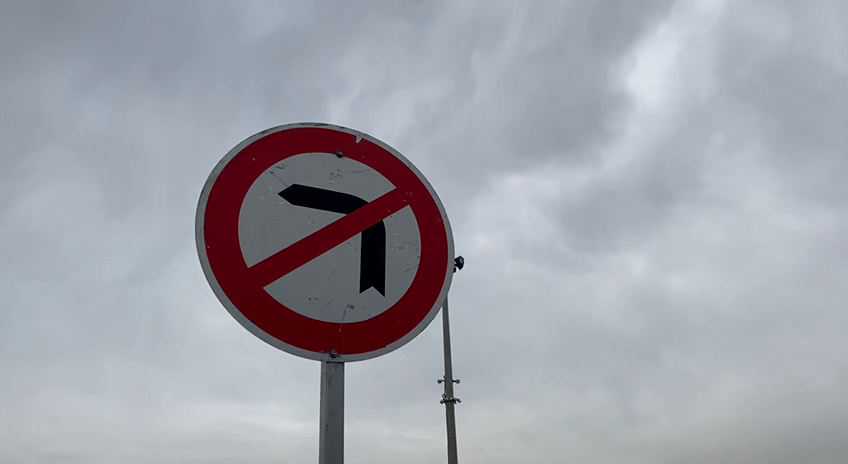noTurnLeft: (190, 121, 458, 367)
